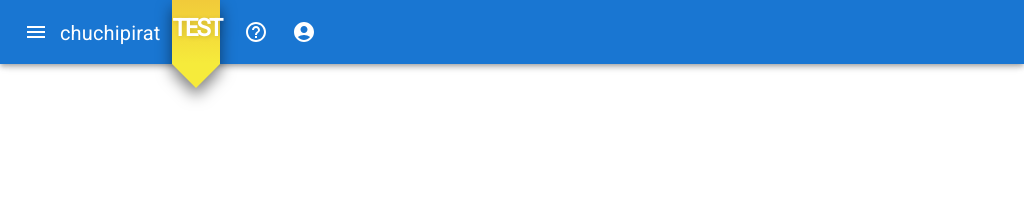
Test: NavigationBar › Original-Farbschema-Umschalter › wird für Community Leader in der Testumgebung angezeigt
Click the button named "Benutzerkonto" at x=304, y=32, box [280,8,328,56]
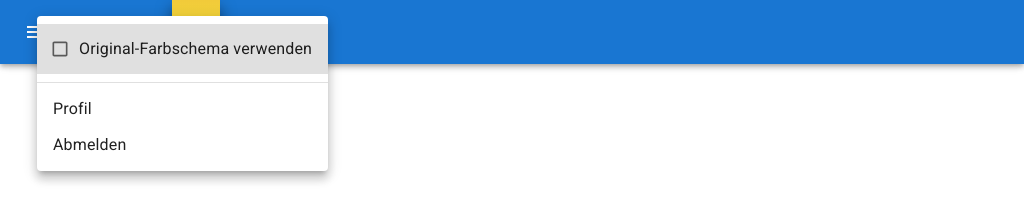
Expected: the text "Original-Farbschema verwenden" is shown, [79,37,312,61]
